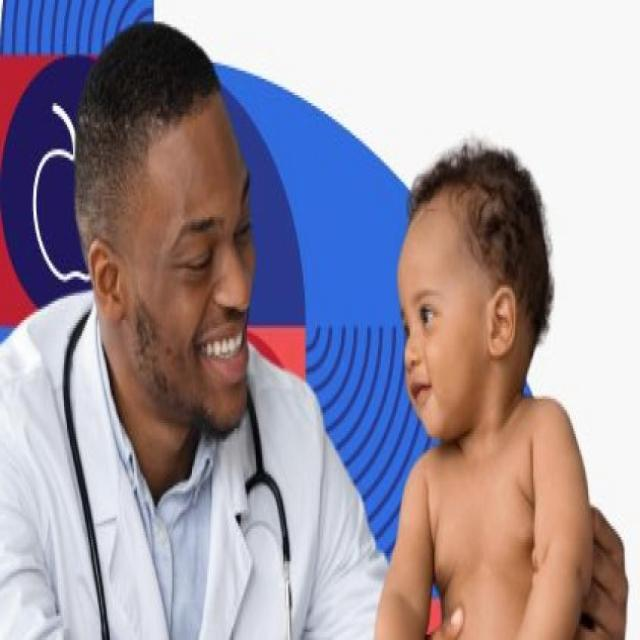adult: (0, 23, 392, 640)
child: (375, 151, 591, 640)
